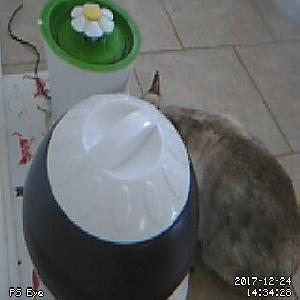cat: (134, 70, 300, 296)
fountain: (38, 1, 141, 73)
